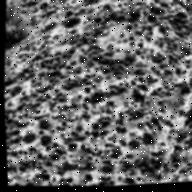boar: (127, 77, 151, 108)
